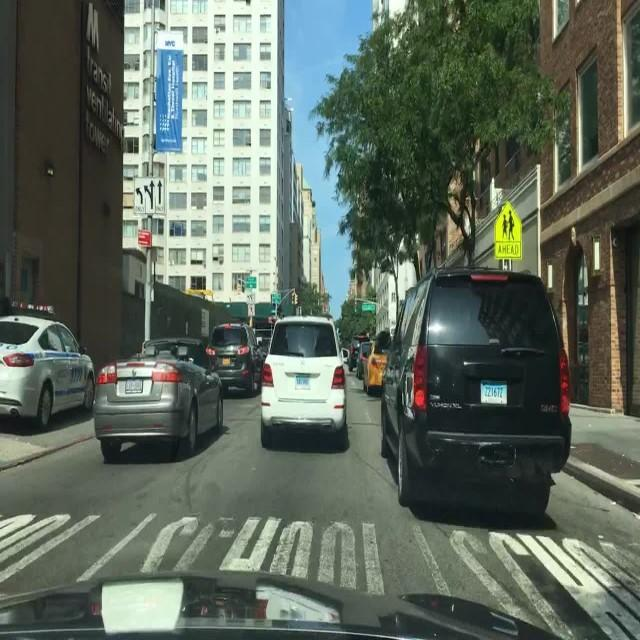normal: (270, 286, 570, 516), (17, 274, 230, 476)
